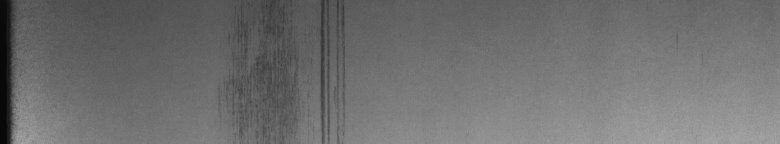ka: (226, 4, 345, 136)
